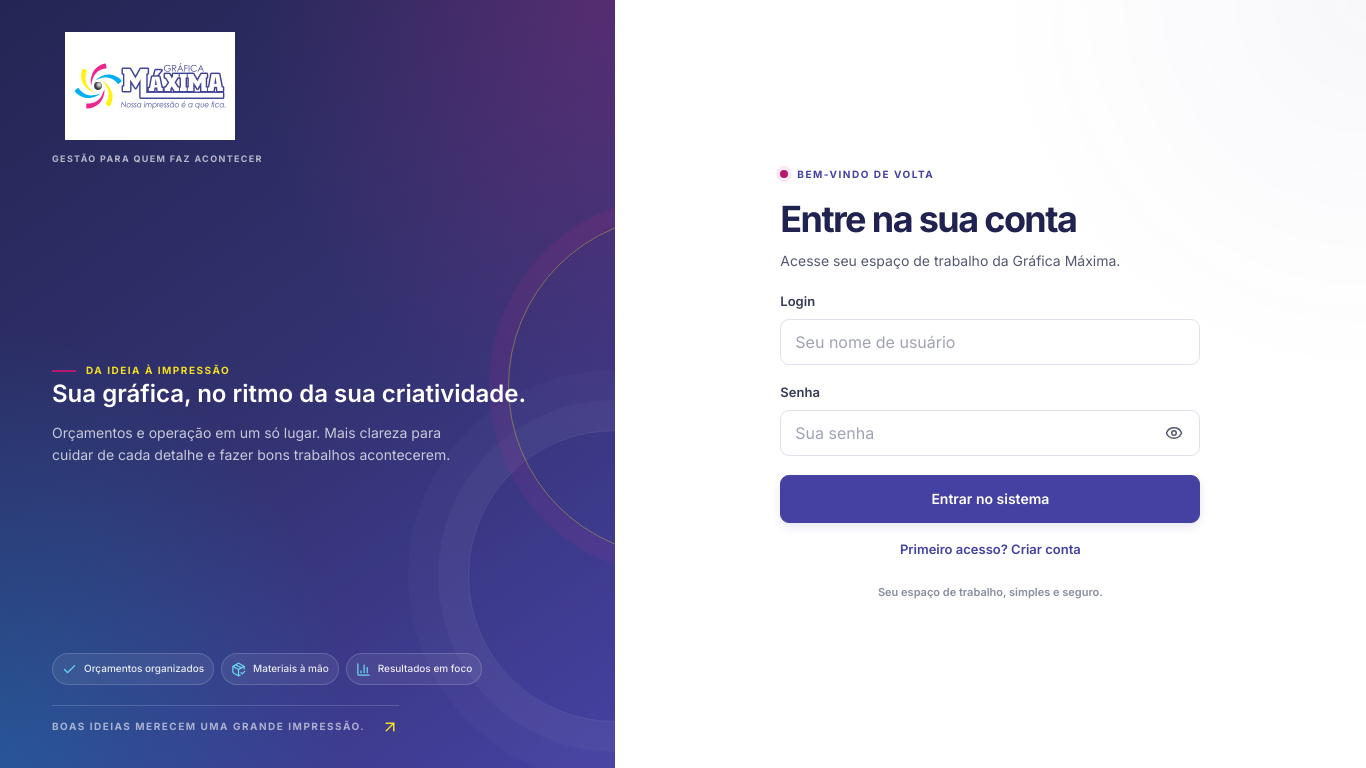
Test: Acesso — login › explica quando o servidor está fora do ar
Type "ana" into the field labelled "Login" at (990, 342), box [780,319,1200,365]
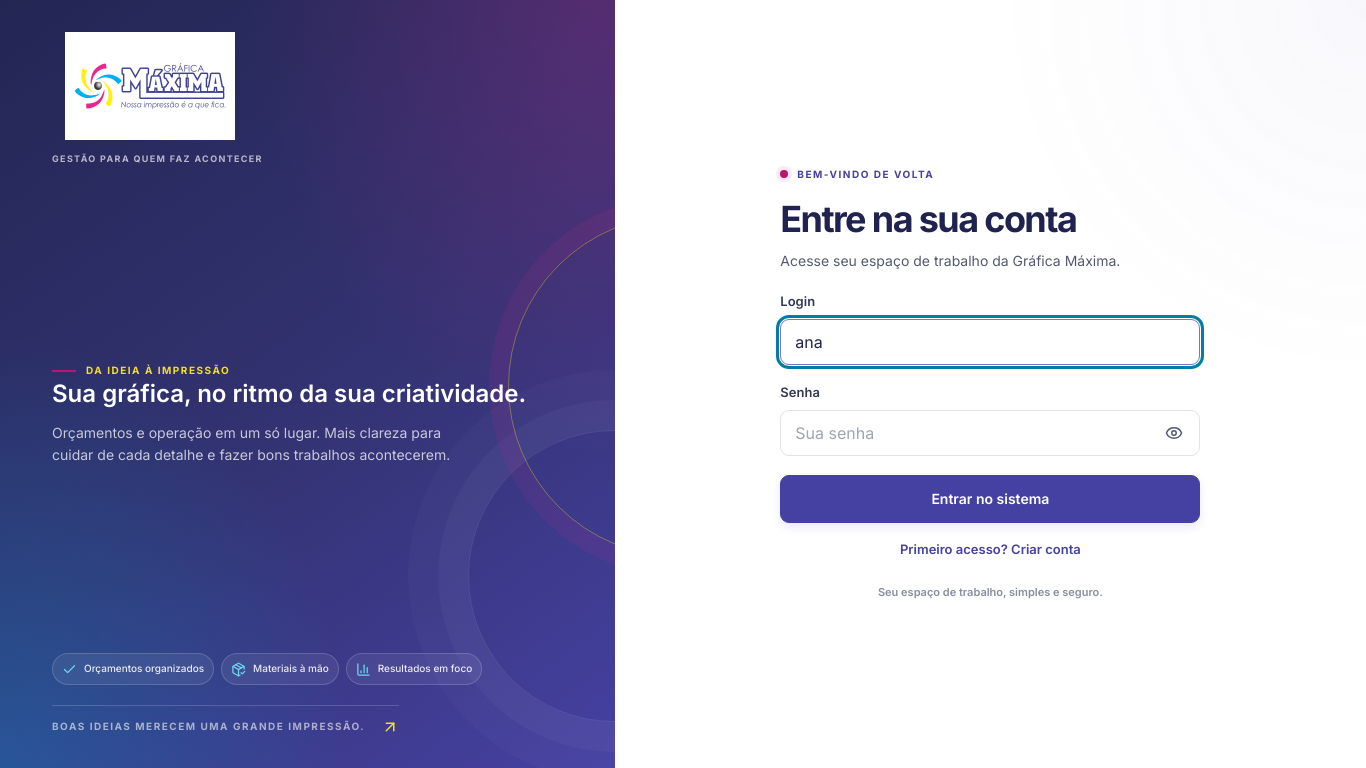
Type "senha-da-ana-123" into the password field labelled "Senha" at (990, 433), box [780,410,1200,456]
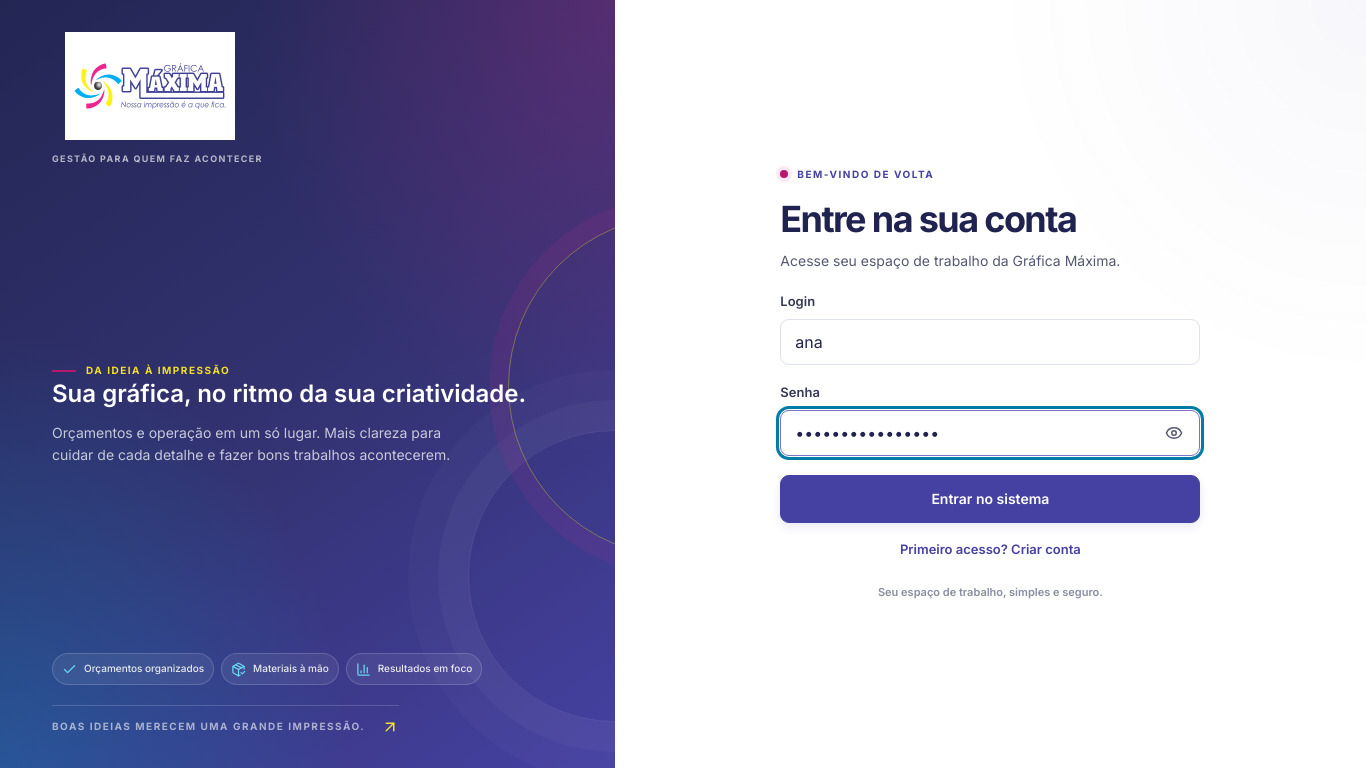
Click the button "Entrar no sistema" at (990, 499), box [780,475,1200,523]
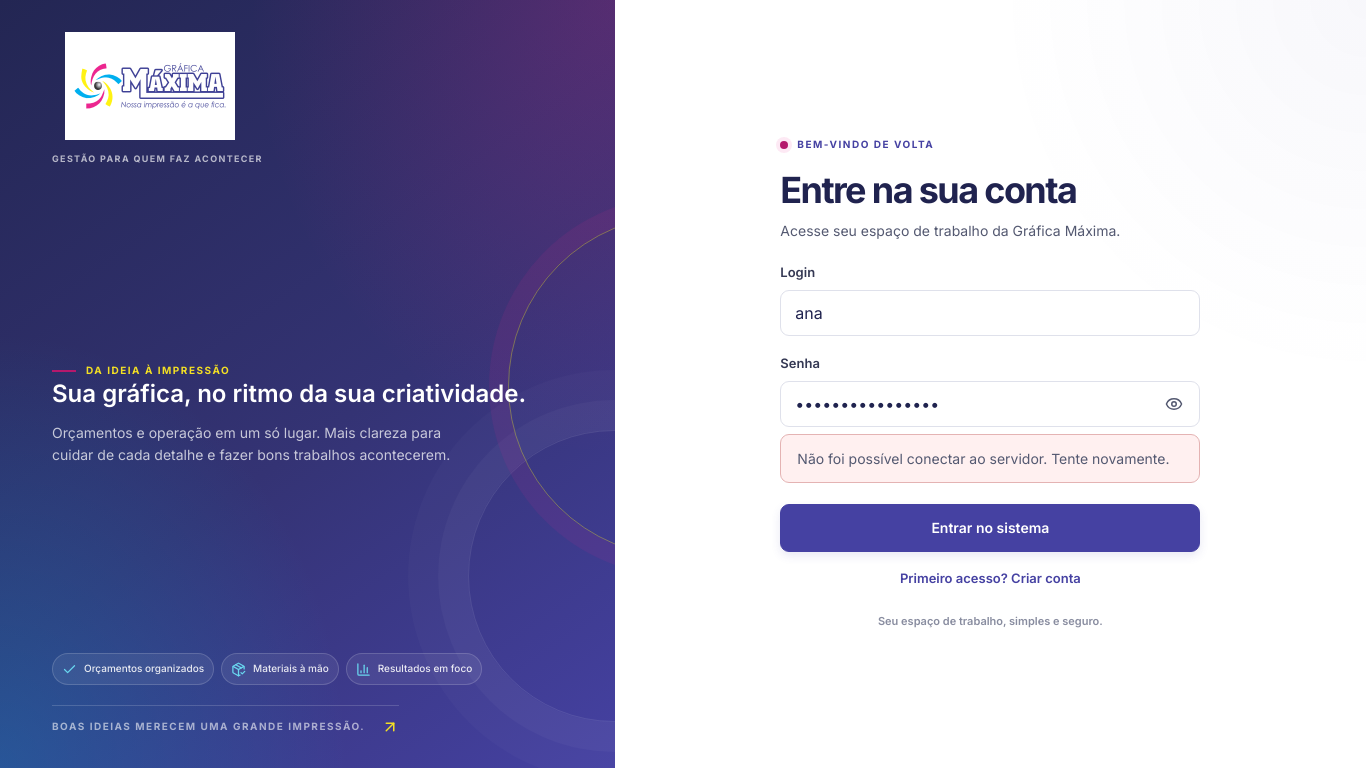
Expected: the message shows "Não foi possível conectar ao servidor.", [797,450,1169,467]
